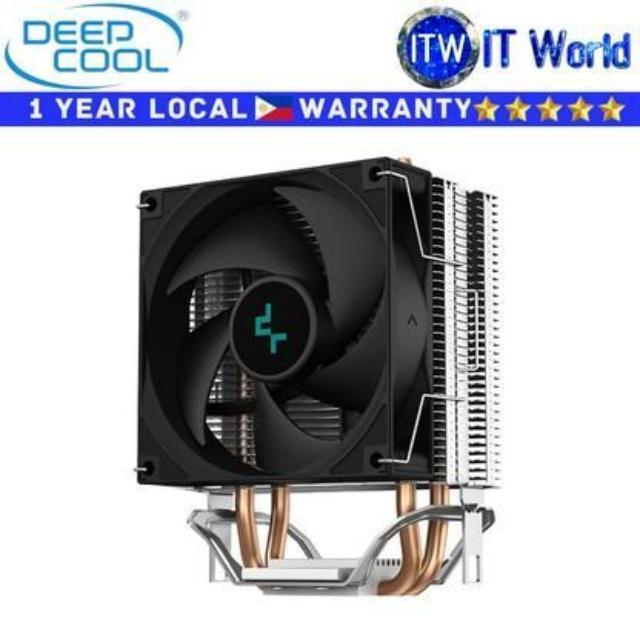CPU_Fan: (127, 150, 505, 608)
